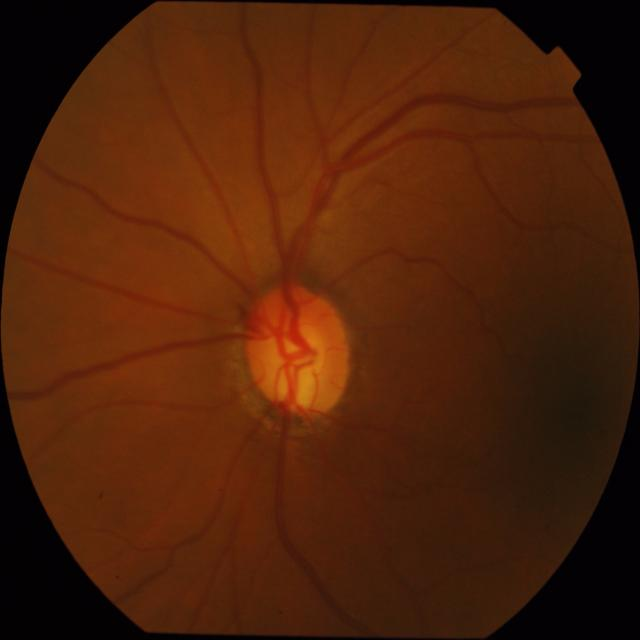OC: (254, 298, 338, 412)
OD: (243, 283, 350, 416)
